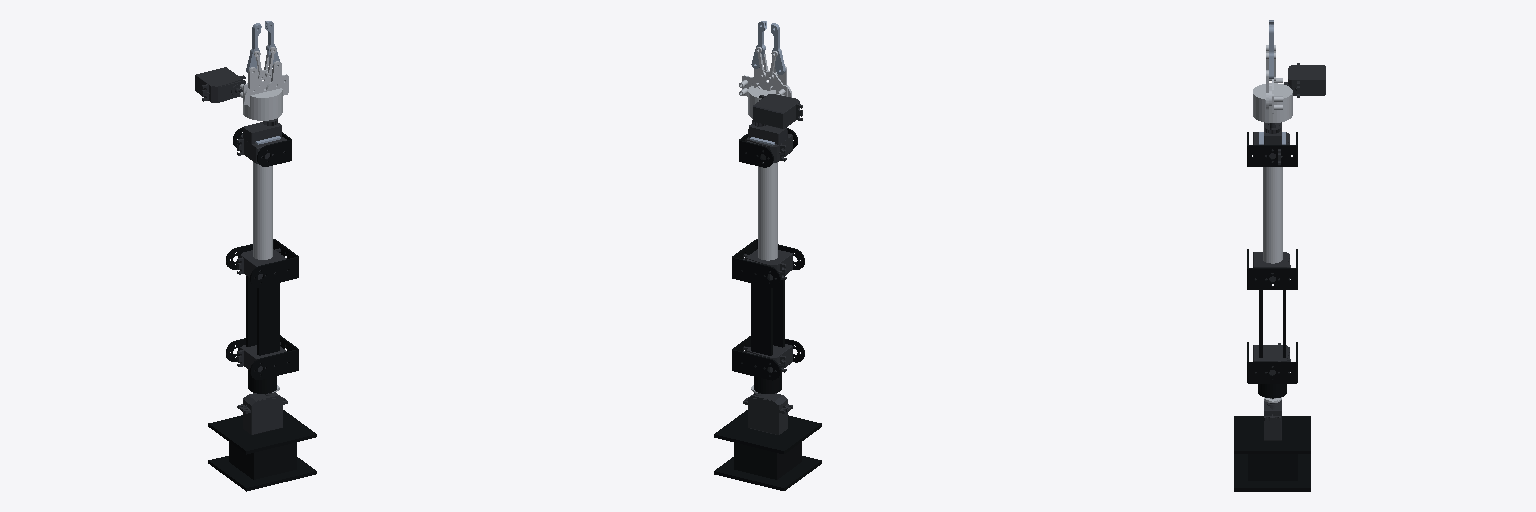
URDF robot description (k3b_arm):
<?xml version="1.0" ?>
<!-- =================================================================================== -->
<!-- |    This document was autogenerated by xacro from k3b_arm_urdf/k3b_arm.urdf.xacro | -->
<!-- |    EDITING THIS FILE BY HAND IS NOT RECOMMENDED                                 | -->
<!-- =================================================================================== -->
<!--
  K3B 六轴机械臂 URDF (xacro 参数化版)
  =============================================================
  执行器实测映射（2026-10-25）
  S1  180° 位置   脉宽 850~1500   上电 850    → finger_left_gear 0~80°（内距 7.5→47.1mm）
  S2  180° 位置   脉宽 500~2500   上电 1500   → base_yaw         限位 ±90°
  S3  270° 位置   脉宽 500~2000   上电 2000   → shoulder_pitch   限位 ±101°
  S4  270° 位置   脉宽 500~2500   上电 500    → elbow_pitch      限位 ±135°
  S5  270° 位置   脉宽 600~2500   上电 1500   → wrist_pitch      限位 ±128°
  速度 360° 连续   无位置反馈      —          → wrist_roll       无限位(continuous)
  · S1~S4 为 WHEELTEC S20F，S5 为 PM15S（暂以 S20F 270° 代替，待实测修正）
  · 夹爪是真四连杆，只有 finger_left_gear 接 S1，其余 5 个关节全 mimic（见 tools/claw_4bar.py）
  · wrist_roll 是速度舵机、无位置反馈，MoveIt 逆解时需 disable
  机械件按实拍装配（套件为黑色阳极氧化支架 + 银色铝管 + 铝制平行连杆爪）：
    单轴脚板 / 25T 舵盘 / 单轴长U支架 / 单轴短U支架 / 新款机械爪
  舵机机身统一挂在上一级 link（壳体固定、舵盘跟动）。
  结构：base_yaw(J1) → shoulder_pitch(J2) → elbow_pitch(J3)
        → wrist_pitch(J4) → wrist_roll(J5) → 夹爪(J6)
  姿态约定：全关节为 0 时即「直臂垂直」，各限位均相对该位姿定义。
  待实测校准：杆长、直立位对应脉宽、真实质量与惯量
  =============================================================
-->
<robot name="k3b_arm">
  <!-- claw 网格 -> gripper_base -->
  <!-- ================= 材质 ================= -->
  <material name="base_mat">
    <color rgba="0.10 0.11 0.12 1.0"/>
  </material>
  <material name="bracket_mat">
    <color rgba="0.09 0.10 0.11 1.0"/>
  </material>
  <material name="link_mat">
    <color rgba="0.58 0.63 0.70 1.0"/>
  </material>
  <material name="servo_mat">
    <color rgba="0.22 0.23 0.25 1.0"/>
  </material>
  <material name="metal_mat">
    <color rgba="0.72 0.74 0.77 1.0"/>
  </material>
  <material name="grip_mat">
    <color rgba="0.20 0.65 0.55 1.0"/>
  </material>
  <!-- ================= 底座 ================= -->
  <link name="base_link">
    <!-- 底板（规格图：9 × 8.4cm 方板，实机为上下双板夹方箱） -->
    <visual>
      <geometry>
        <box size="0.09 0.084 0.004"/>
      </geometry>
      <origin rpy="0 0 0" xyz="0 0 0.002"/>
      <material name="bracket_mat"/>
    </visual>
    <!-- 中间方箱 -->
    <visual>
      <geometry>
        <box size="0.055 0.055 0.04108"/>
      </geometry>
      <origin rpy="0 0 0" xyz="0 0 0.02454"/>
      <material name="base_mat"/>
    </visual>
    <!-- 顶板 -->
    <visual>
      <geometry>
        <box size="0.09 0.084 0.004"/>
      </geometry>
      <origin rpy="0 0 0" xyz="0 0 0.04708"/>
      <material name="bracket_mat"/>
    </visual>
    <!-- S2：驱动 base_yaw，轴朝上 -->
    <visual>
      <geometry>
        <mesh filename="package://k3b_arm_urdf/meshes/s20f.stl"/>
      </geometry>
      <origin rpy="0 0 0" xyz="0.01 0 0.095"/>
      <material name="servo_mat"/>
    </visual>
    <collision>
      <geometry>
        <cylinder length="0.04908" radius="0.05"/>
      </geometry>
      <origin rpy="0 0 0" xyz="0 0 0.02454"/>
    </collision>
    <inertial>
      <mass value="1.0"/>
      <inertia ixx="0.01" ixy="0.0" ixz="0.0" iyy="0.01" iyz="0.0" izz="0.01"/>
    </inertial>
  </link>
  <!-- ================= J1 底座偏航（S2） ================= -->
  <link name="base_yaw_link">
    <!-- 25T 舵盘压在 S2 输出轴端，当转台 -->
    <visual>
      <geometry>
        <mesh filename="package://k3b_arm_urdf/meshes/part_horn25t.stl"/>
      </geometry>
      <origin rpy="0 0 0" xyz="0.01 0 0.0025"/>
      <material name="metal_mat"/>
    </visual>
    <!-- 短柱：把 U 支架垫到肩关节高度 -->
    <visual>
      <geometry>
        <cylinder length="0.026" radius="0.016"/>
      </geometry>
      <origin rpy="0 0 0" xyz="0 0 0.017"/>
      <material name="bracket_mat"/>
    </visual>
    <!-- 单轴长U支架：夹住 S3 -->
    <visual>
      <geometry>
        <mesh filename="package://k3b_arm_urdf/meshes/part_u_long.stl"/>
      </geometry>
      <origin rpy="0 0 1.5707963267948966" xyz="0 0 0.042"/>
      <material name="bracket_mat"/>
    </visual>
    <!-- S3：驱动 shoulder_pitch -->
    <visual>
      <geometry>
        <mesh filename="package://k3b_arm_urdf/meshes/s20f.stl"/>
      </geometry>
      <origin rpy="-1.5707963267948966 0 0" xyz="0.01 0.024 0.042"/>
      <material name="servo_mat"/>
    </visual>
    <collision>
      <geometry>
        <cylinder length="0.05" radius="0.032"/>
      </geometry>
      <origin rpy="0 0 0" xyz="0 0 0.025"/>
    </collision>
    <inertial>
      <mass value="0.3"/>
      <inertia ixx="0.001" ixy="0.0" ixz="0.0" iyy="0.001" iyz="0.0" izz="0.001"/>
    </inertial>
  </link>
  <joint name="base_yaw" type="revolute">
    <parent link="base_link"/>
    <child link="base_yaw_link"/>
    <origin rpy="0 0 0" xyz="0 0 0.095"/>
    <axis xyz="0 0 1"/>
    <limit effort="20.0" lower="-1.5708" upper="1.5708" velocity="1.5"/>
    <dynamics damping="0.3" friction="0.15"/>
  </joint>
  <!-- ================= J2 肩俯仰（S3） ================= -->
  <link name="upper_arm_link">
    <!-- 大臂：两片平行黑色侧板（实拍结构） -->
    <visual>
      <geometry>
        <box size="0.026 0.004 0.105"/>
      </geometry>
      <origin rpy="0 0 0" xyz="0 0.013 0.0525"/>
      <material name="bracket_mat"/>
    </visual>
    <visual>
      <geometry>
        <box size="0.026 0.004 0.105"/>
      </geometry>
      <origin rpy="0 0 0" xyz="0 -0.013 0.0525"/>
      <material name="bracket_mat"/>
    </visual>
    <!-- 单轴长U支架：夹住 S4 -->
    <visual>
      <geometry>
        <mesh filename="package://k3b_arm_urdf/meshes/part_u_long.stl"/>
      </geometry>
      <origin rpy="0 0 1.5707963267948966" xyz="0 0 0.105"/>
      <material name="bracket_mat"/>
    </visual>
    <!-- S4：驱动 elbow_pitch -->
    <visual>
      <geometry>
        <mesh filename="package://k3b_arm_urdf/meshes/s20f.stl"/>
      </geometry>
      <origin rpy="-1.5707963267948966 0 0" xyz="0.01 0.024 0.105"/>
      <material name="servo_mat"/>
    </visual>
    <collision>
      <geometry>
        <box size="0.030 0.030 0.105"/>
      </geometry>
      <origin rpy="0 0 0" xyz="0 0 0.0525"/>
    </collision>
    <inertial>
      <mass value="0.6"/>
      <inertia ixx="0.002" ixy="0.0" ixz="0.0" iyy="0.002" iyz="0.0" izz="0.002"/>
    </inertial>
  </link>
  <joint name="shoulder_pitch" type="revolute">
    <parent link="base_yaw_link"/>
    <child link="upper_arm_link"/>
    <origin rpy="0 0 0" xyz="0 0 0.05"/>
    <axis xyz="0 1 0"/>
    <limit effort="20.0" lower="-1.7628" upper="1.7628" velocity="1.5"/>
    <dynamics damping="0.3" friction="0.15"/>
  </joint>
  <!-- ================= J3 肘俯仰（S4） ================= -->
  <link name="forearm_link">
    <!-- 前臂：银色铝管 -->
    <visual>
      <geometry>
        <cylinder length="0.145" radius="0.011"/>
      </geometry>
      <origin rpy="0 0 0" xyz="0 0 0.0725"/>
      <material name="metal_mat"/>
    </visual>
    <!-- 单轴短U支架：夹住 S5 -->
    <visual>
      <geometry>
        <mesh filename="package://k3b_arm_urdf/meshes/part_u_short.stl"/>
      </geometry>
      <origin rpy="0 0 1.5707963267948966" xyz="0 0 0.145"/>
      <material name="bracket_mat"/>
    </visual>
    <!-- S5（PM15S，暂以 S20F 代替）：驱动 wrist_pitch -->
    <visual>
      <geometry>
        <mesh filename="package://k3b_arm_urdf/meshes/s20f.stl"/>
      </geometry>
      <origin rpy="-1.5707963267948966 0 0" xyz="0.01 0.024 0.145"/>
      <material name="servo_mat"/>
    </visual>
    <collision>
      <geometry>
        <cylinder length="0.145" radius="0.011"/>
      </geometry>
      <origin rpy="0 0 0" xyz="0 0 0.0725"/>
    </collision>
    <inertial>
      <mass value="0.5"/>
      <inertia ixx="0.002" ixy="0.0" ixz="0.0" iyy="0.002" iyz="0.0" izz="0.002"/>
    </inertial>
  </link>
  <joint name="elbow_pitch" type="revolute">
    <parent link="upper_arm_link"/>
    <child link="forearm_link"/>
    <origin rpy="0 0 0" xyz="0 0 0.105"/>
    <axis xyz="0 1 0"/>
    <limit effort="15.0" lower="-2.3562" upper="2.3562" velocity="1.5"/>
    <dynamics damping="0.25" friction="0.12"/>
  </joint>
  <!-- ================= J4 腕俯仰（S5） ================= -->
  <link name="wrist_link">
    <!-- 腕部接盘（DS3120 机身本身占满这段，这里只做一块连接板） -->
    <visual>
      <geometry>
        <box size="0.030 0.030 0.012"/>
      </geometry>
      <origin rpy="0 0 0" xyz="0 0 0.006"/>
      <material name="link_mat"/>
    </visual>
    <!-- 速度舵机 DS3120：驱动 wrist_roll -->
    <visual>
      <geometry>
        <mesh filename="package://k3b_arm_urdf/meshes/ds3120.stl"/>
      </geometry>
      <origin rpy="0 0 0" xyz="0.01 0 0.04"/>
      <material name="servo_mat"/>
    </visual>
    <collision>
      <geometry>
        <box size="0.030 0.030 0.012"/>
      </geometry>
      <origin rpy="0 0 0" xyz="0 0 0.006"/>
    </collision>
    <inertial>
      <mass value="0.2"/>
      <inertia ixx="0.0005" ixy="0.0" ixz="0.0" iyy="0.0005" iyz="0.0" izz="0.0005"/>
    </inertial>
  </link>
  <joint name="wrist_pitch" type="revolute">
    <parent link="forearm_link"/>
    <child link="wrist_link"/>
    <origin rpy="0 0 0" xyz="0 0 0.145"/>
    <axis xyz="0 1 0"/>
    <limit effort="10.0" lower="-2.234" upper="2.234" velocity="1.5"/>
    <dynamics damping="0.2" friction="0.12"/>
  </joint>
  <!-- ================= J5 腕滚转（速度舵机，continuous） ================= -->
  <link name="wrist_roll_link">
    <visual>
      <geometry>
        <cylinder length="0.028" radius="0.022"/>
      </geometry>
      <origin rpy="0 0 0" xyz="0 0 0.014"/>
      <material name="metal_mat"/>
    </visual>
    <collision>
      <geometry>
        <cylinder length="0.028" radius="0.024"/>
      </geometry>
      <origin rpy="0 0 0" xyz="0 0 0.014"/>
    </collision>
    <inertial>
      <mass value="0.15"/>
      <inertia ixx="0.0003" ixy="0.0" ixz="0.0" iyy="0.0003" iyz="0.0" izz="0.0003"/>
    </inertial>
  </link>
  <joint name="wrist_roll" type="continuous">
    <parent link="wrist_link"/>
    <child link="wrist_roll_link"/>
    <origin rpy="0 0 0" xyz="0 0 0.04"/>
    <axis xyz="0 0 1"/>
    <limit effort="10.0" velocity="6.0"/>
    <dynamics damping="0.1" friction="0.05"/>
  </joint>
  <!-- ================= 夹爪机身（固定，含 S1） ================= -->
  <link name="gripper_base_link">
    <!-- S1：输出轴对准齿轮轴心，机身从爪体 +Y 面外挂 -->
    <visual>
      <geometry>
        <mesh filename="package://k3b_arm_urdf/meshes/s20f.stl"/>
      </geometry>
      <origin rpy="1.5707963267948966 0 0" xyz="-0.02348 0.012 -0.0023"/>
      <material name="servo_mat"/>
    </visual>
    <!-- 机械爪壳体：背板 + 舵机支架 + 垫块（齿轮扇形板与连杆已拆成独立杆件） -->
    <visual>
      <geometry>
        <mesh filename="package://k3b_arm_urdf/meshes/claw_body.stl"/>
      </geometry>
      <origin rpy="0 3.141592653589793 0" xyz="0.00275 0 0.0277"/>
      <material name="metal_mat"/>
    </visual>
    <collision>
      <geometry>
        <box size="0.060 0.024 0.050"/>
      </geometry>
      <origin rpy="0 0 0" xyz="0 0 0.025"/>
    </collision>
    <inertial>
      <mass value="0.12"/>
      <inertia ixx="0.0001" ixy="0.0" ixz="0.0" iyy="0.0001" iyz="0.0" izz="0.0001"/>
    </inertial>
  </link>
  <joint name="gripper_base_joint" type="fixed">
    <parent link="wrist_roll_link"/>
    <child link="gripper_base_link"/>
    <origin rpy="0 0 0" xyz="0 0 0.028"/>
  </joint>
  <!-- 末端工具坐标系：两爪尖正中间 -->
  <link name="tool0"/>
  <joint name="tool0_joint" type="fixed">
    <parent link="gripper_base_link"/>
    <child link="tool0"/>
    <origin rpy="0 0 0" xyz="0 0 0.082"/>
  </joint>
  <!-- ================= 左齿轮扇形板（S1 侧 / 啮合侧） ================= -->
  <!-- 输入杆：S1 直接驱动。正向 = 张开（逆时针） -->
  <link name="finger_left_gear_link">
    <visual>
      <geometry>
        <mesh filename="package://k3b_arm_urdf/meshes/claw_gear_left.stl"/>
      </geometry>
      <origin rpy="0 3.141592653589793 0" xyz="-0.01070 0 0.03"/>
      <material name="metal_mat"/>
    </visual>
    <collision>
      <geometry>
        <box size="0.028 0.006 0.050"/>
      </geometry>
      <origin rpy="0 0 0" xyz="0 0 0.015"/>
    </collision>
    <inertial>
      <mass value="0.03"/>
      <inertia ixx="0.00001" ixy="0.0" ixz="0.0" iyy="0.00001" iyz="0.0" izz="0.00001"/>
    </inertial>
  </link>
  <joint name="finger_left_gear_joint" type="revolute">
    <parent link="gripper_base_link"/>
    <child link="finger_left_gear_link"/>
    <origin rpy="0 0 0" xyz="0.01345 0 -0.0023"/>
    <axis xyz="0 1 0"/>
    <limit effort="12.0" lower="0" upper="1.39626" velocity="2.0"/>
    <dynamics damping="0.5" friction="0.1"/>
  </joint>
  <!-- ================= 左指片（连杆 coupler） ================= -->
  <link name="finger_left_link">
    <visual>
      <geometry>
        <mesh filename="package://k3b_arm_urdf/meshes/claw_finger_left.stl"/>
      </geometry>
      <origin rpy="0 3.141592653589793 0" xyz="-0.01290 0 0.0001"/>
      <material name="link_mat"/>
    </visual>
    <collision>
      <geometry>
        <box size="0.0169 0.005 0.0593"/>
      </geometry>
      <origin rpy="0 0 0" xyz="-0.0035 -0.0015 0.0247"/>
    </collision>
    <inertial>
      <mass value="0.03"/>
      <inertia ixx="0.00002" ixy="0.0" ixz="0.0" iyy="0.00002" iyz="0.0" izz="0.00001"/>
    </inertial>
  </link>
  <joint name="finger_left_joint" type="revolute">
    <parent link="finger_left_gear_link"/>
    <child link="finger_left_link"/>
    <origin rpy="0 0 0" xyz="0.00220 0 0.0299"/>
    <axis xyz="0 1 0"/>
    <limit effort="8.0" lower="-1.5433280658" upper="0" velocity="1.5"/>
    <mimic joint="finger_left_gear_joint" multiplier="-1.10533" offset="0"/>
    <dynamics damping="1.0" friction="0.2"/>
  </joint>
  <!-- ================= 左平行连杆（rocker2） ================= -->
  <link name="finger_left_bar_link">
    <visual>
      <geometry>
        <mesh filename="package://k3b_arm_urdf/meshes/claw_bar_left.stl"/>
      </geometry>
      <origin rpy="0 3.141592653589793 0" xyz="-0.00230 0 0.0093"/>
      <material name="metal_mat"/>
    </visual>
    <collision>
      <geometry>
        <box size="0.010 0.011 0.030"/>
      </geometry>
      <origin rpy="0 0 0" xyz="-0.0026 0 -0.0052"/>
    </collision>
    <inertial>
      <mass value="0.015"/>
      <inertia ixx="0.000005" ixy="0.0" ixz="0.0" iyy="0.000005" iyz="0.0" izz="0.000005"/>
    </inertial>
  </link>
  <joint name="finger_left_bar_joint" type="revolute">
    <parent link="gripper_base_link"/>
    <child link="finger_left_bar_link"/>
    <origin rpy="0 0 0" xyz="0.00505 0 0.0184"/>
    <axis xyz="0 1 0"/>
    <limit effort="8.0" lower="0" upper="1.3423783266" velocity="1.5"/>
    <mimic joint="finger_left_gear_joint" multiplier="0.96141" offset="0"/>
    <dynamics damping="1.0" friction="0.2"/>
  </joint>
  <!-- ================= 右齿轮扇形板（S1 侧 / 啮合侧） ================= -->
  <!-- 与左齿轮啮合，转向相反 -> axis 取 -Y，mimic 系数 +1 即为镜像 -->
  <link name="finger_right_gear_link">
    <visual>
      <geometry>
        <mesh filename="package://k3b_arm_urdf/meshes/claw_gear_right.stl"/>
      </geometry>
      <origin rpy="0 3.141592653589793 0" xyz="0.01620 0 0.03"/>
      <material name="metal_mat"/>
    </visual>
    <collision>
      <geometry>
        <box size="0.028 0.006 0.050"/>
      </geometry>
      <origin rpy="0 0 0" xyz="0 0 0.015"/>
    </collision>
    <inertial>
      <mass value="0.03"/>
      <inertia ixx="0.00001" ixy="0.0" ixz="0.0" iyy="0.00001" iyz="0.0" izz="0.00001"/>
    </inertial>
  </link>
  <joint name="finger_right_gear_joint" type="revolute">
    <parent link="gripper_base_link"/>
    <child link="finger_right_gear_link"/>
    <origin rpy="0 0 0" xyz="-0.01345 0 -0.0023"/>
    <axis xyz="0 -1 0"/>
    <limit effort="12.0" lower="0" upper="1.39626" velocity="2.0"/>
    <mimic joint="finger_left_gear_joint" multiplier="1" offset="0"/>
    <dynamics damping="0.5" friction="0.1"/>
  </joint>
  <!-- ================= 右指片（连杆 coupler） ================= -->
  <link name="finger_right_link">
    <visual>
      <geometry>
        <mesh filename="package://k3b_arm_urdf/meshes/claw_finger_right.stl"/>
      </geometry>
      <origin rpy="0 3.141592653589793 0" xyz="0.01840 0 0.0001"/>
      <material name="link_mat"/>
    </visual>
    <collision>
      <geometry>
        <box size="0.0169 0.005 0.0593"/>
      </geometry>
      <origin rpy="0 0 0" xyz="-0.0035 -0.0015 0.0247"/>
    </collision>
    <inertial>
      <mass value="0.03"/>
      <inertia ixx="0.00002" ixy="0.0" ixz="0.0" iyy="0.00002" iyz="0.0" izz="0.00001"/>
    </inertial>
  </link>
  <joint name="finger_right_joint" type="revolute">
    <parent link="finger_right_gear_link"/>
    <child link="finger_right_link"/>
    <origin rpy="0 0 0" xyz="-0.00220 0 0.0299"/>
    <axis xyz="0 -1 0"/>
    <limit effort="8.0" lower="-1.5433280658" upper="0" velocity="1.5"/>
    <mimic joint="finger_left_gear_joint" multiplier="-1.10533" offset="0"/>
    <dynamics damping="1.0" friction="0.2"/>
  </joint>
  <!-- ================= 右平行连杆（rocker2） ================= -->
  <link name="finger_right_bar_link">
    <visual>
      <geometry>
        <mesh filename="package://k3b_arm_urdf/meshes/claw_bar_right.stl"/>
      </geometry>
      <origin rpy="0 3.141592653589793 0" xyz="0.00780 0 0.0093"/>
      <material name="metal_mat"/>
    </visual>
    <collision>
      <geometry>
        <box size="0.010 0.011 0.030"/>
      </geometry>
      <origin rpy="0 0 0" xyz="-0.0026 0 -0.0052"/>
    </collision>
    <inertial>
      <mass value="0.015"/>
      <inertia ixx="0.000005" ixy="0.0" ixz="0.0" iyy="0.000005" iyz="0.0" izz="0.000005"/>
    </inertial>
  </link>
  <joint name="finger_right_bar_joint" type="revolute">
    <parent link="gripper_base_link"/>
    <child link="finger_right_bar_link"/>
    <origin rpy="0 0 0" xyz="-0.00505 0 0.0184"/>
    <axis xyz="0 -1 0"/>
    <limit effort="8.0" lower="0" upper="1.3423783266" velocity="1.5"/>
    <mimic joint="finger_left_gear_joint" multiplier="0.96141" offset="0"/>
    <dynamics damping="1.0" friction="0.2"/>
  </joint>
  <!-- ================= 世界坐标系 ================= -->
  <link name="world"/>
  <joint name="world_joint" type="fixed">
    <parent link="world"/>
    <child link="base_link"/>
    <origin rpy="0 0 0" xyz="0 0 0"/>
  </joint>
</robot>

--- Render facts (derived) ---
Views: 3 orthographic renders of the robot side by side, from view 1: azimuth 30°, elevation 25°; view 2: azimuth 150°, elevation 25°; view 3: azimuth 270°, elevation 25°.
Model k3b_arm with 15 links and 14 joints (10 revolute, 1 continuous, 3 fixed), rooted at world, posed every joint at zero.
Visible links, largest first — view 1: base_link, upper_arm_link, forearm_link, base_yaw_link, gripper_base_link, wrist_roll_link, wrist_link; view 2: base_link, upper_arm_link, forearm_link, base_yaw_link, gripper_base_link, wrist_link; view 3: base_link, forearm_link, base_yaw_link, upper_arm_link, gripper_base_link, wrist_roll_link, wrist_link.
Link boxes in pixels (<box>): base_link: <box>208,392,316,491</box>; upper_arm_link: <box>226,239,298,355</box>; forearm_link: <box>233,127,291,259</box>; base_yaw_link: <box>226,335,298,393</box>; gripper_base_link: <box>195,67,288,104</box>; wrist_roll_link: <box>243,88,282,120</box>; wrist_link: <box>243,118,281,144</box>; base_link: <box>714,392,821,490</box>; upper_arm_link: <box>732,239,804,355</box>; forearm_link: <box>739,128,797,260</box>; base_yaw_link: <box>732,336,804,393</box>; gripper_base_link: <box>739,70,802,128</box>; wrist_link: <box>748,120,787,145</box>; base_link: <box>1234,400,1310,491</box>; forearm_link: <box>1247,132,1297,263</box>; base_yaw_link: <box>1247,342,1297,402</box>; upper_arm_link: <box>1247,249,1297,357</box>; gripper_base_link: <box>1269,63,1325,113</box>; wrist_roll_link: <box>1253,83,1292,122</box>; wrist_link: <box>1259,122,1285,155</box>.
Size in the robot's own frame: 0.1057 by 0.0999 by 0.545 metres.
Meshes: 12 distinct files referenced, 17 mesh visuals loaded (12 binary STL).
